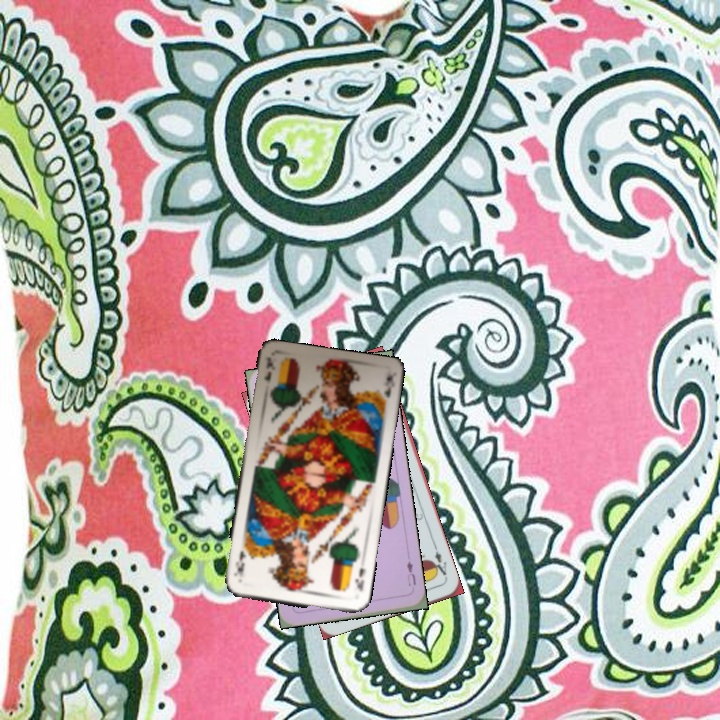EA: (428, 542, 450, 582)
EK: (260, 354, 277, 386), (351, 564, 368, 595)
EU: (403, 557, 418, 589)
